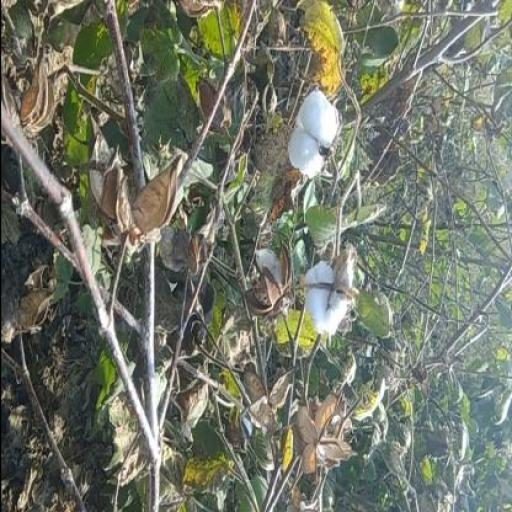cotton_ready: (290, 224, 360, 354), (274, 65, 344, 181)
